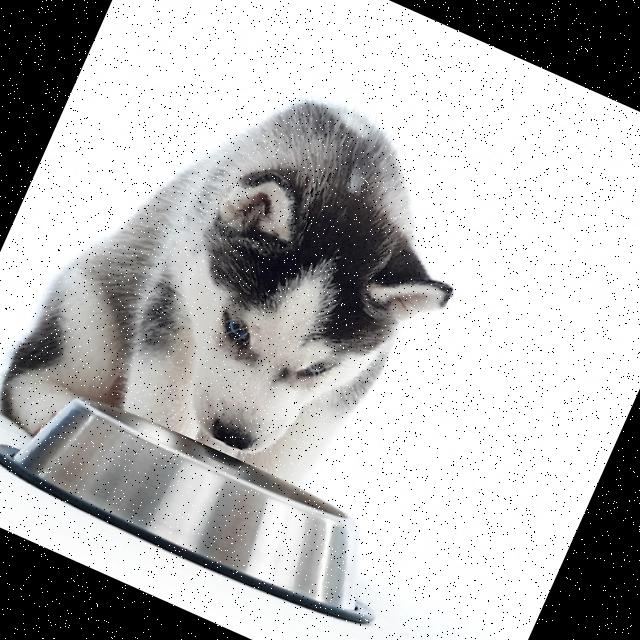Dog: (0, 22, 505, 570)
